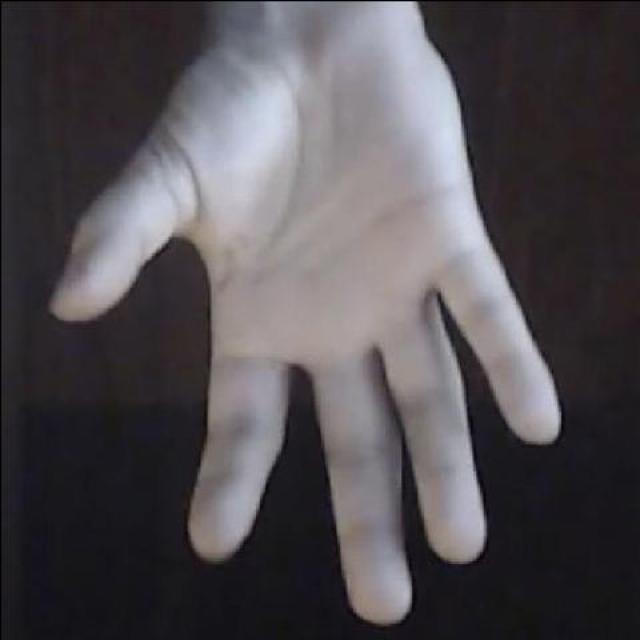Open Hand: (44, 0, 567, 628)
